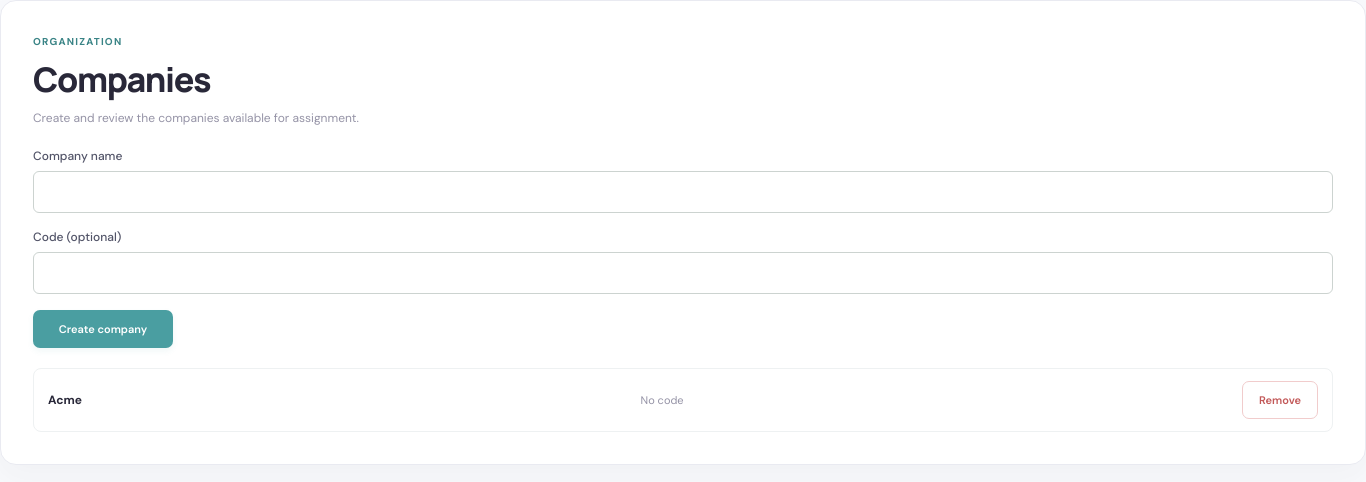
it: confirms company removal and refreshes the list
Click the button with aria-label "Remove company Acme" at [1280, 400], box [1242,381,1318,419]
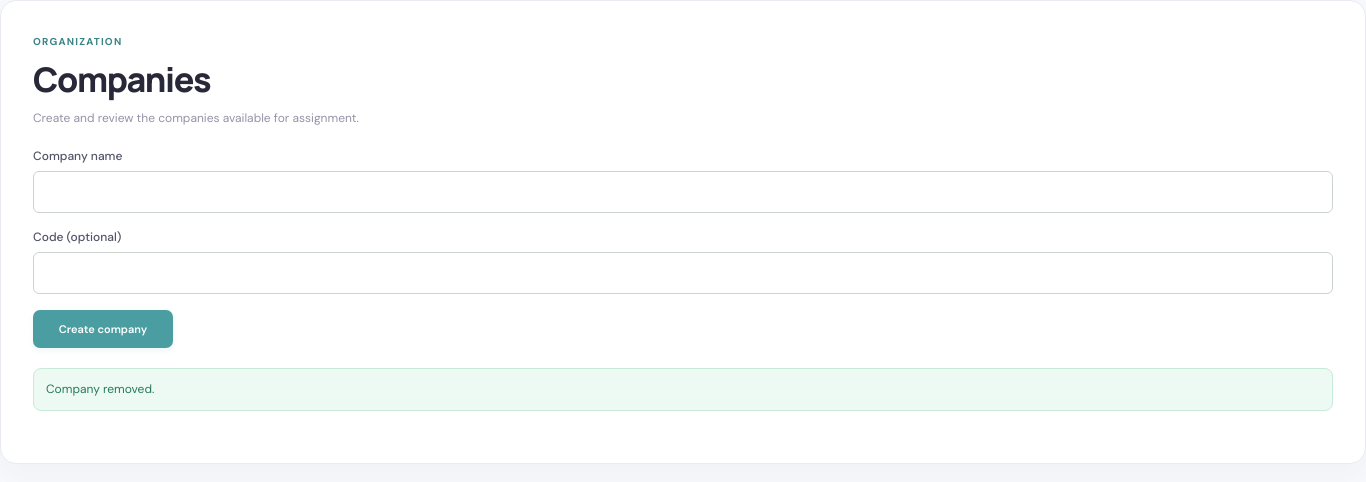
Result: the text "Company removed." is shown at [33,368,1333,411]
Result: the text "Acme" is gone
